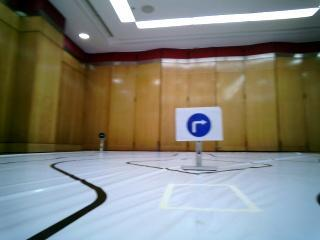right: (175, 109, 222, 141)
